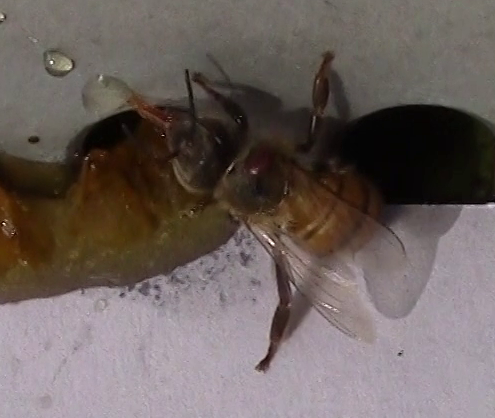Varroa destructor: (239, 143, 280, 179)
